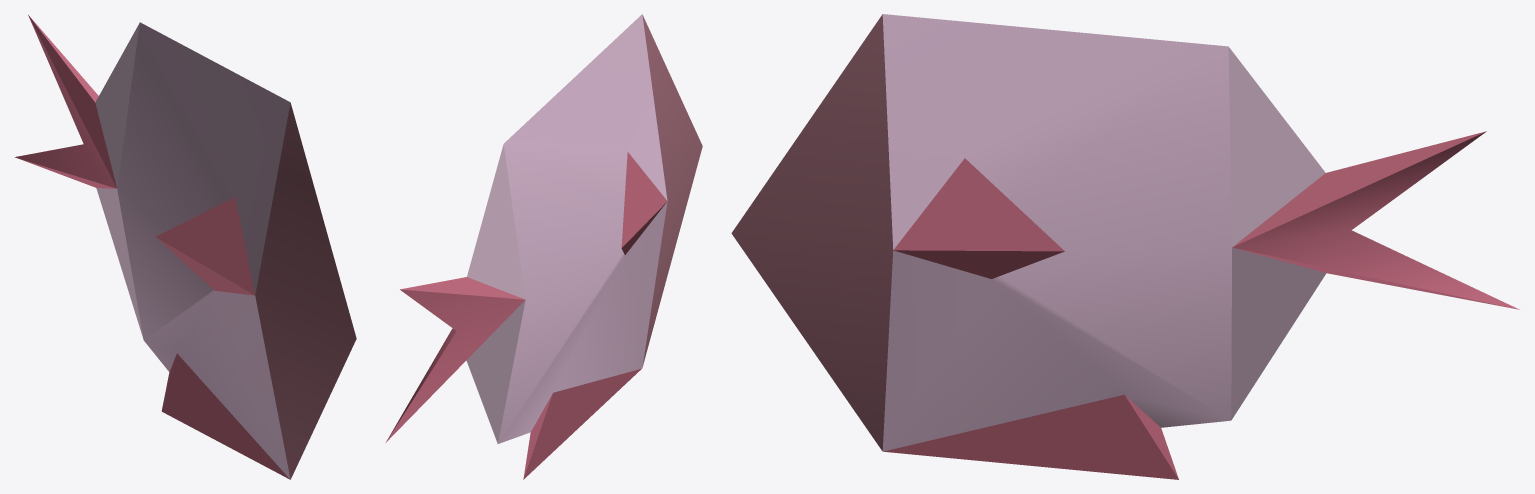
Rendered from FishType_Flat_1.fbx.
The picture shows the model from 3 angles, left to right: view 1: azimuth 30°, elevation 25°; view 2: azimuth 150°, elevation 25°; view 3: azimuth 270°, elevation 25°; orthographic projection. The views are drawn at different scales.
Parts seen in each view (by area): view 1: FishType_Flat_1; view 2: FishType_Flat_1; view 3: FishType_Flat_1.
Part boxes in pixels (x1,y1,x2,y2): FishType_Flat_1: (14, 15, 356, 479); FishType_Flat_1: (385, 14, 702, 479); FishType_Flat_1: (731, 14, 1519, 479).
Size of the model in its own units: 0.4345 by 1.51 by 2.31.
1 material, 1 textured.
